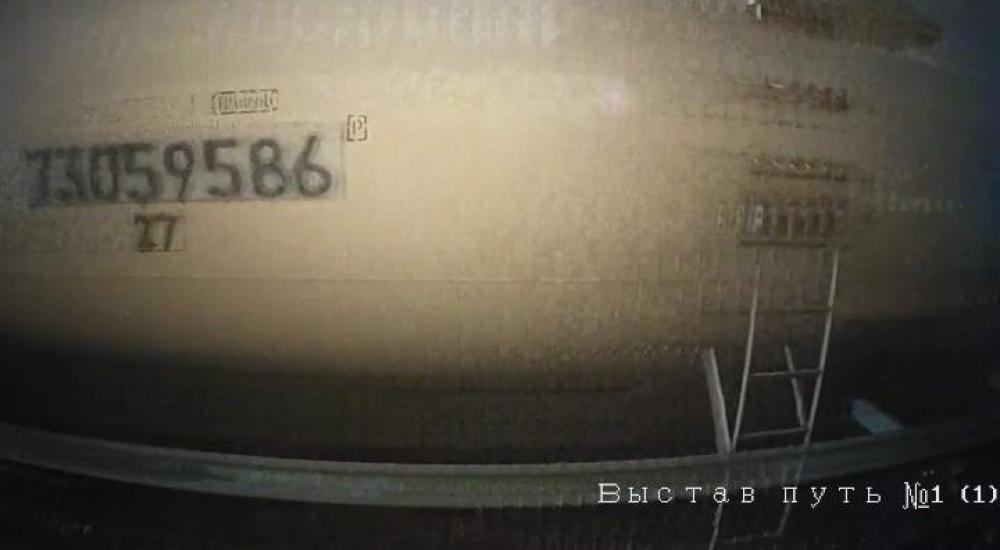Wagon-number: (23, 128, 335, 208)
